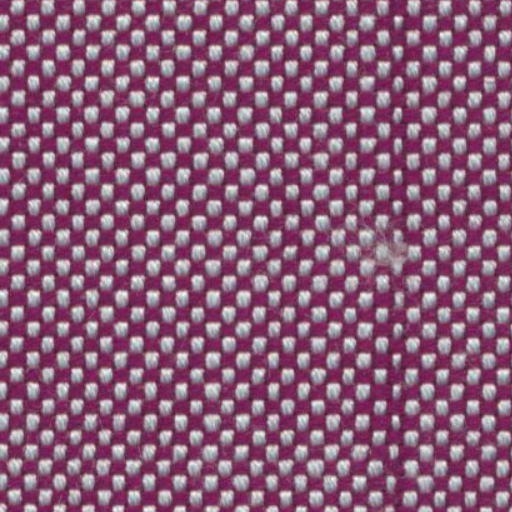TuoSha: (349, 6, 452, 502)
